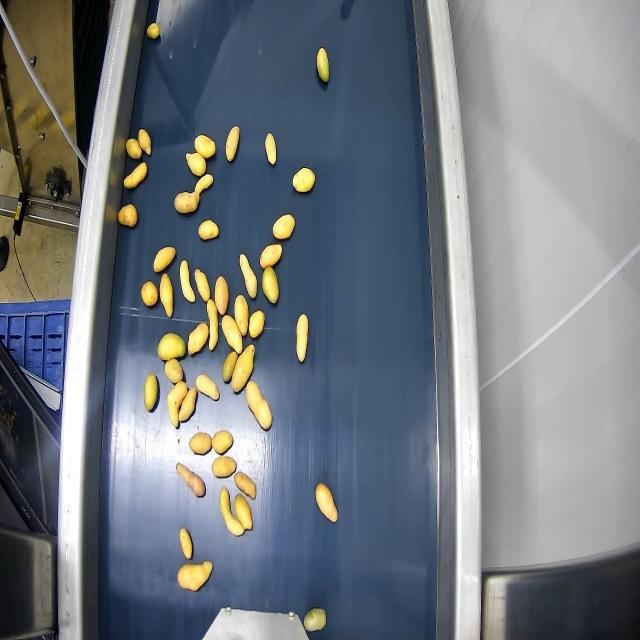Baby Potato: (246, 381, 271, 430), (231, 344, 254, 392), (220, 488, 243, 535), (124, 145, 148, 189), (178, 561, 212, 591), (176, 464, 205, 497), (167, 381, 187, 428), (315, 484, 337, 522), (221, 315, 242, 354), (240, 254, 257, 298), (158, 333, 185, 360), (178, 388, 198, 422), (234, 494, 252, 530), (180, 260, 195, 303), (188, 323, 208, 355), (174, 191, 200, 214), (234, 472, 256, 499), (207, 298, 218, 351), (296, 314, 308, 362), (262, 267, 278, 303), (196, 375, 219, 400), (234, 295, 248, 336), (160, 273, 173, 317), (260, 244, 282, 269), (153, 247, 175, 272), (214, 276, 228, 315), (194, 269, 210, 303), (212, 456, 236, 478), (212, 430, 233, 455), (273, 214, 294, 239), (144, 374, 158, 411), (304, 608, 326, 631), (189, 432, 211, 455), (194, 135, 215, 159), (293, 168, 314, 192), (316, 47, 329, 84), (222, 351, 237, 383), (186, 152, 205, 176), (226, 126, 239, 161), (141, 281, 158, 307), (118, 204, 137, 227), (165, 360, 183, 384), (249, 310, 264, 338), (265, 132, 277, 166), (179, 528, 192, 559), (194, 174, 213, 195), (198, 220, 218, 239), (138, 128, 151, 155), (126, 138, 141, 159), (146, 22, 160, 40)
